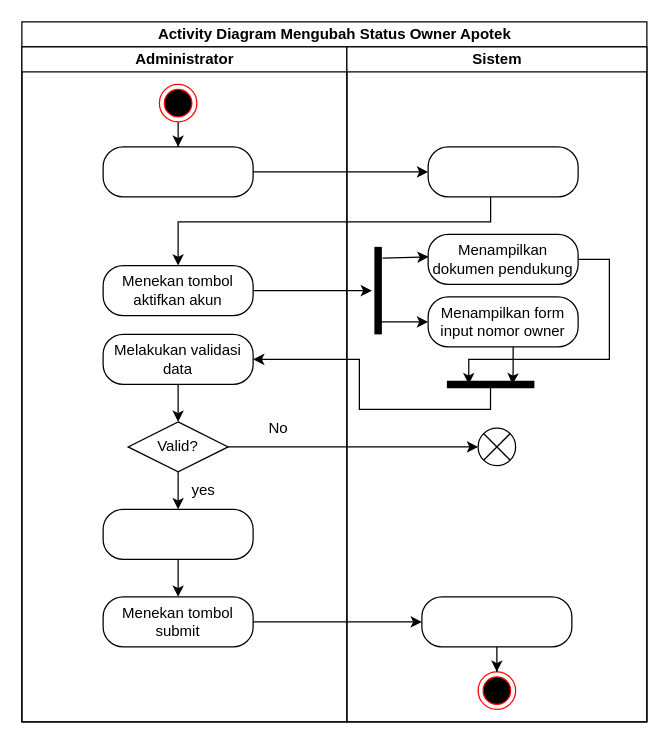
Image size: 669x744. Some labels were removed from this diagram. The shapes that lost their labels are listed below. From the top down, each one's box as (x1, y1, x2, y2) in pixels, then its label:
(102, 146, 253, 197): Memilih menu owner apotek
(427, 146, 578, 197): Menampilkan data owner apotek
(102, 508, 253, 559): Melengkapi form input nomor owner
(421, 596, 572, 647): Menyimpan data owner apotek
